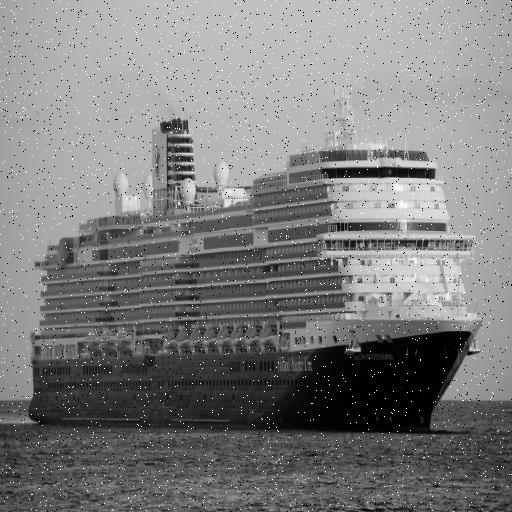cruises: (20, 84, 486, 442)
